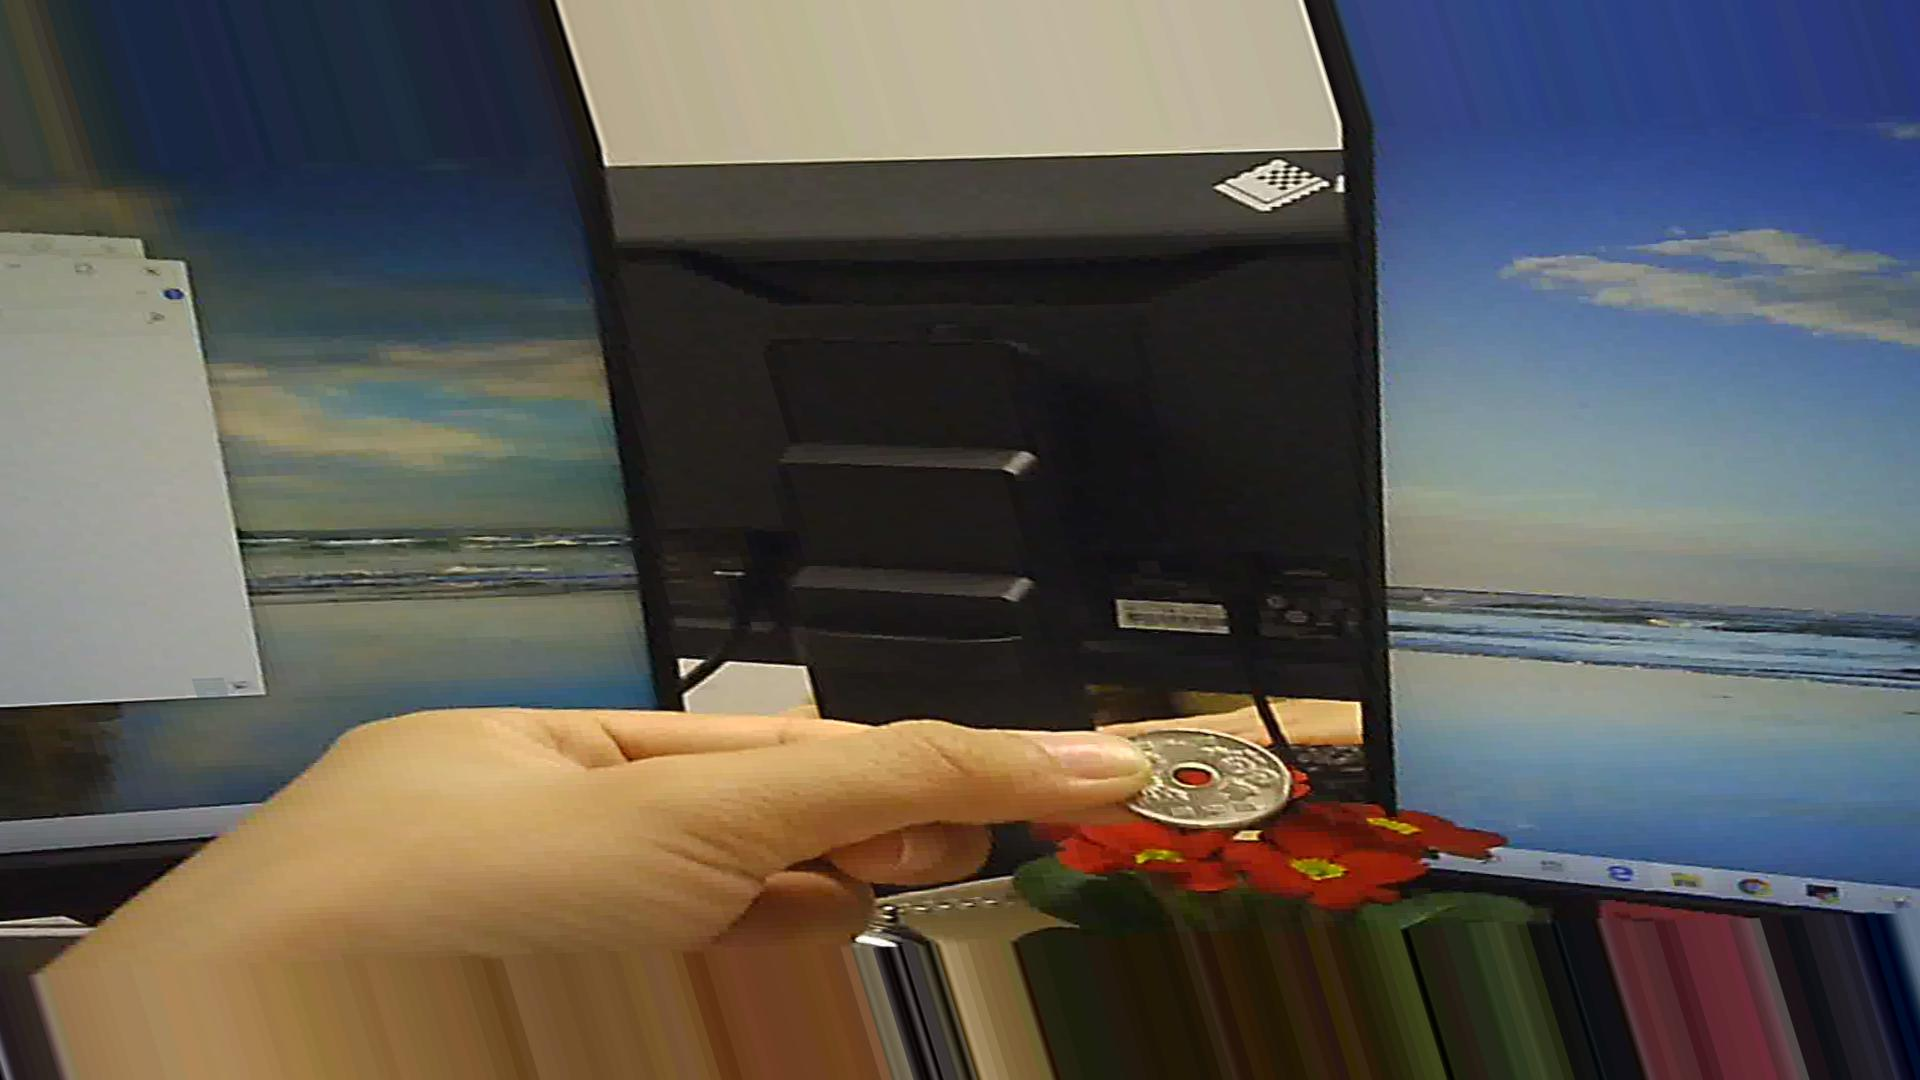50 Yen: (1110, 725, 1291, 837)
